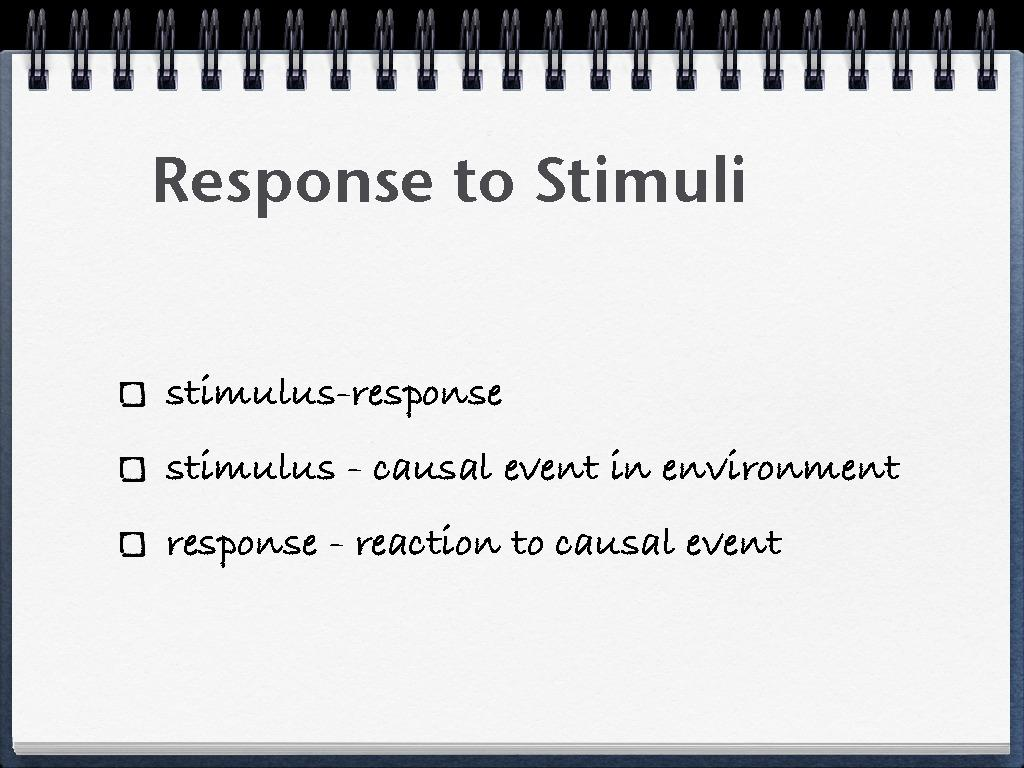paragraph: (97, 321, 970, 582)
title: (143, 134, 782, 228)
